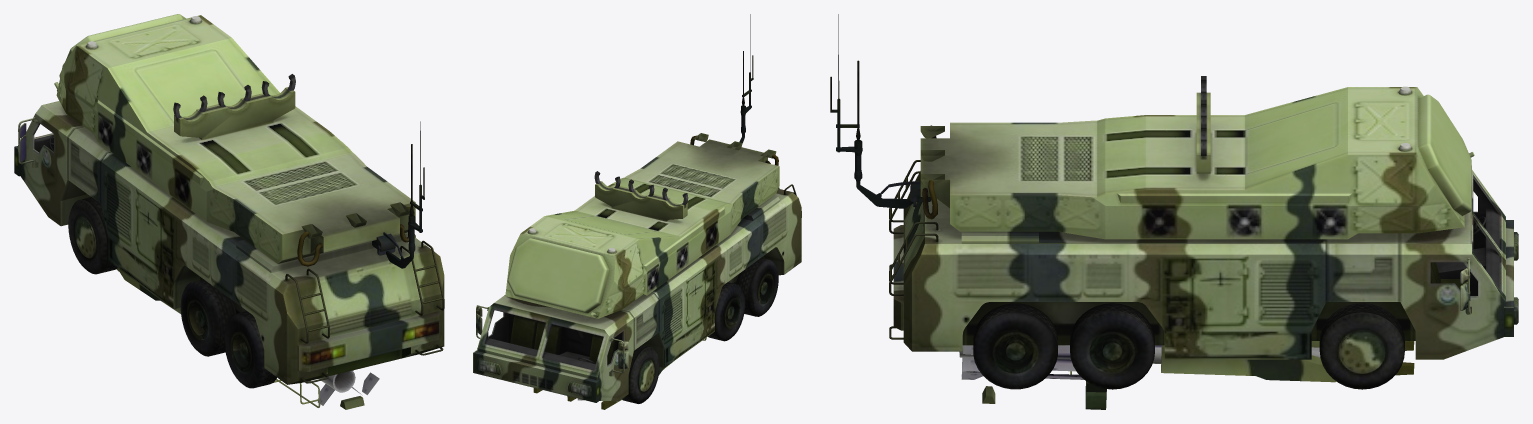
Rendered from khordad.glb.
3 renders of one model, left to right at view 1: azimuth 30°, elevation 25°; view 2: azimuth 150°, elevation 25°; view 3: azimuth 270°, elevation 25°, orthographic. The views are drawn at different scales.
Parts seen in each view (by area): view 1: body|object_0, missile|object_0 (×2); view 2: body|object_0; view 3: body|object_0, cradle|object_0, missile|object_0.
Part boxes in pixels (x1,y1,x2,y2): body|object_0: [14, 14, 444, 388]; missile|object_0 (×2): [273, 370, 379, 409]; body|object_0: [473, 14, 801, 403]; body|object_0: [830, 14, 1518, 389]; cradle|object_0: [1161, 341, 1414, 382]; missile|object_0: [959, 345, 1106, 409].
Size of the model in its own units: 3.59 by 6.04 by 9.69.
Materials: 5 (4 with a texture image).
